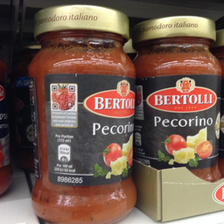tomato_sauce: (29, 5, 138, 224), (132, 16, 222, 182)
